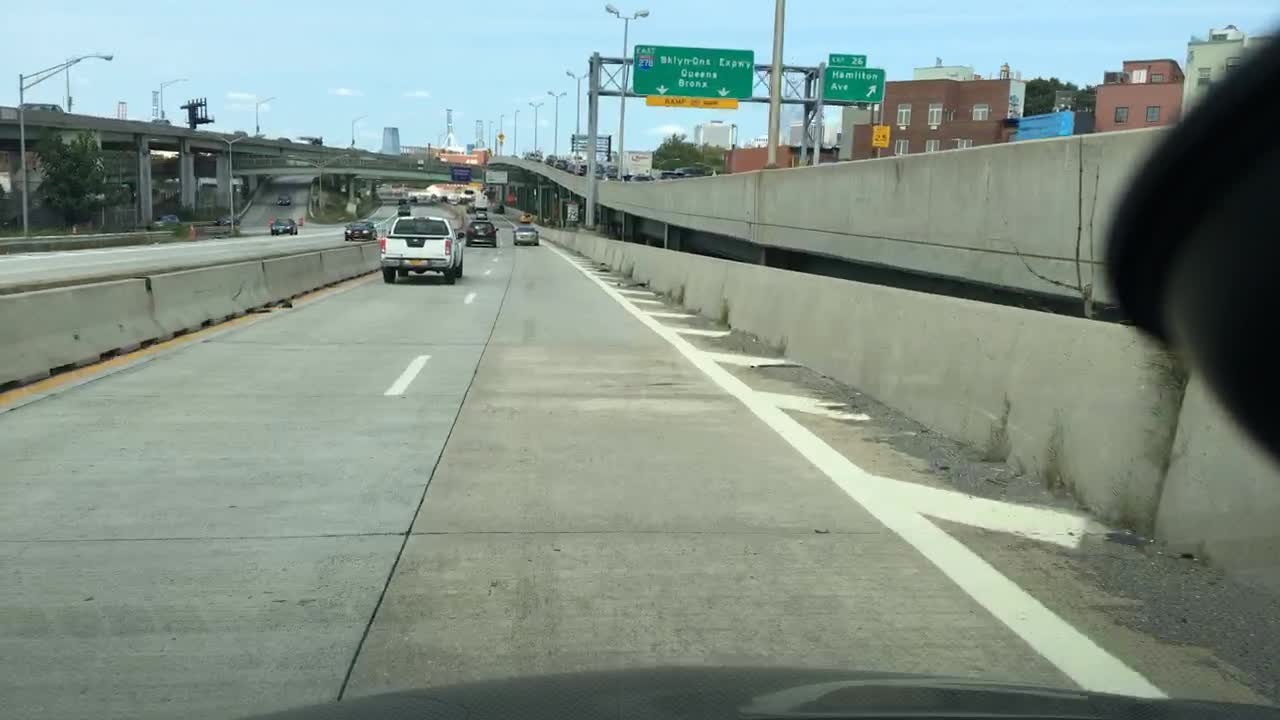car: (464, 219, 500, 250), (343, 218, 376, 242), (145, 212, 182, 232), (511, 223, 540, 247), (268, 217, 300, 237), (14, 102, 63, 114), (680, 164, 712, 178), (294, 137, 324, 147), (274, 190, 291, 207), (213, 217, 239, 227), (606, 162, 617, 182), (656, 169, 677, 179), (152, 117, 172, 127), (398, 204, 413, 217), (577, 162, 588, 178), (491, 202, 506, 213), (519, 212, 532, 224), (557, 158, 567, 172), (524, 152, 541, 160), (476, 210, 487, 222), (593, 164, 601, 180), (546, 154, 560, 163), (234, 129, 247, 138), (466, 200, 475, 212), (440, 194, 450, 204), (406, 194, 416, 202), (396, 197, 406, 205), (567, 162, 573, 174), (431, 190, 436, 203)
traffic sign: (631, 42, 756, 109), (819, 52, 887, 102), (870, 123, 889, 148), (563, 202, 581, 224), (449, 165, 471, 182), (485, 168, 507, 182), (505, 192, 516, 204), (496, 129, 506, 140)
truck: (376, 215, 466, 285), (617, 149, 655, 178), (474, 193, 488, 208)
